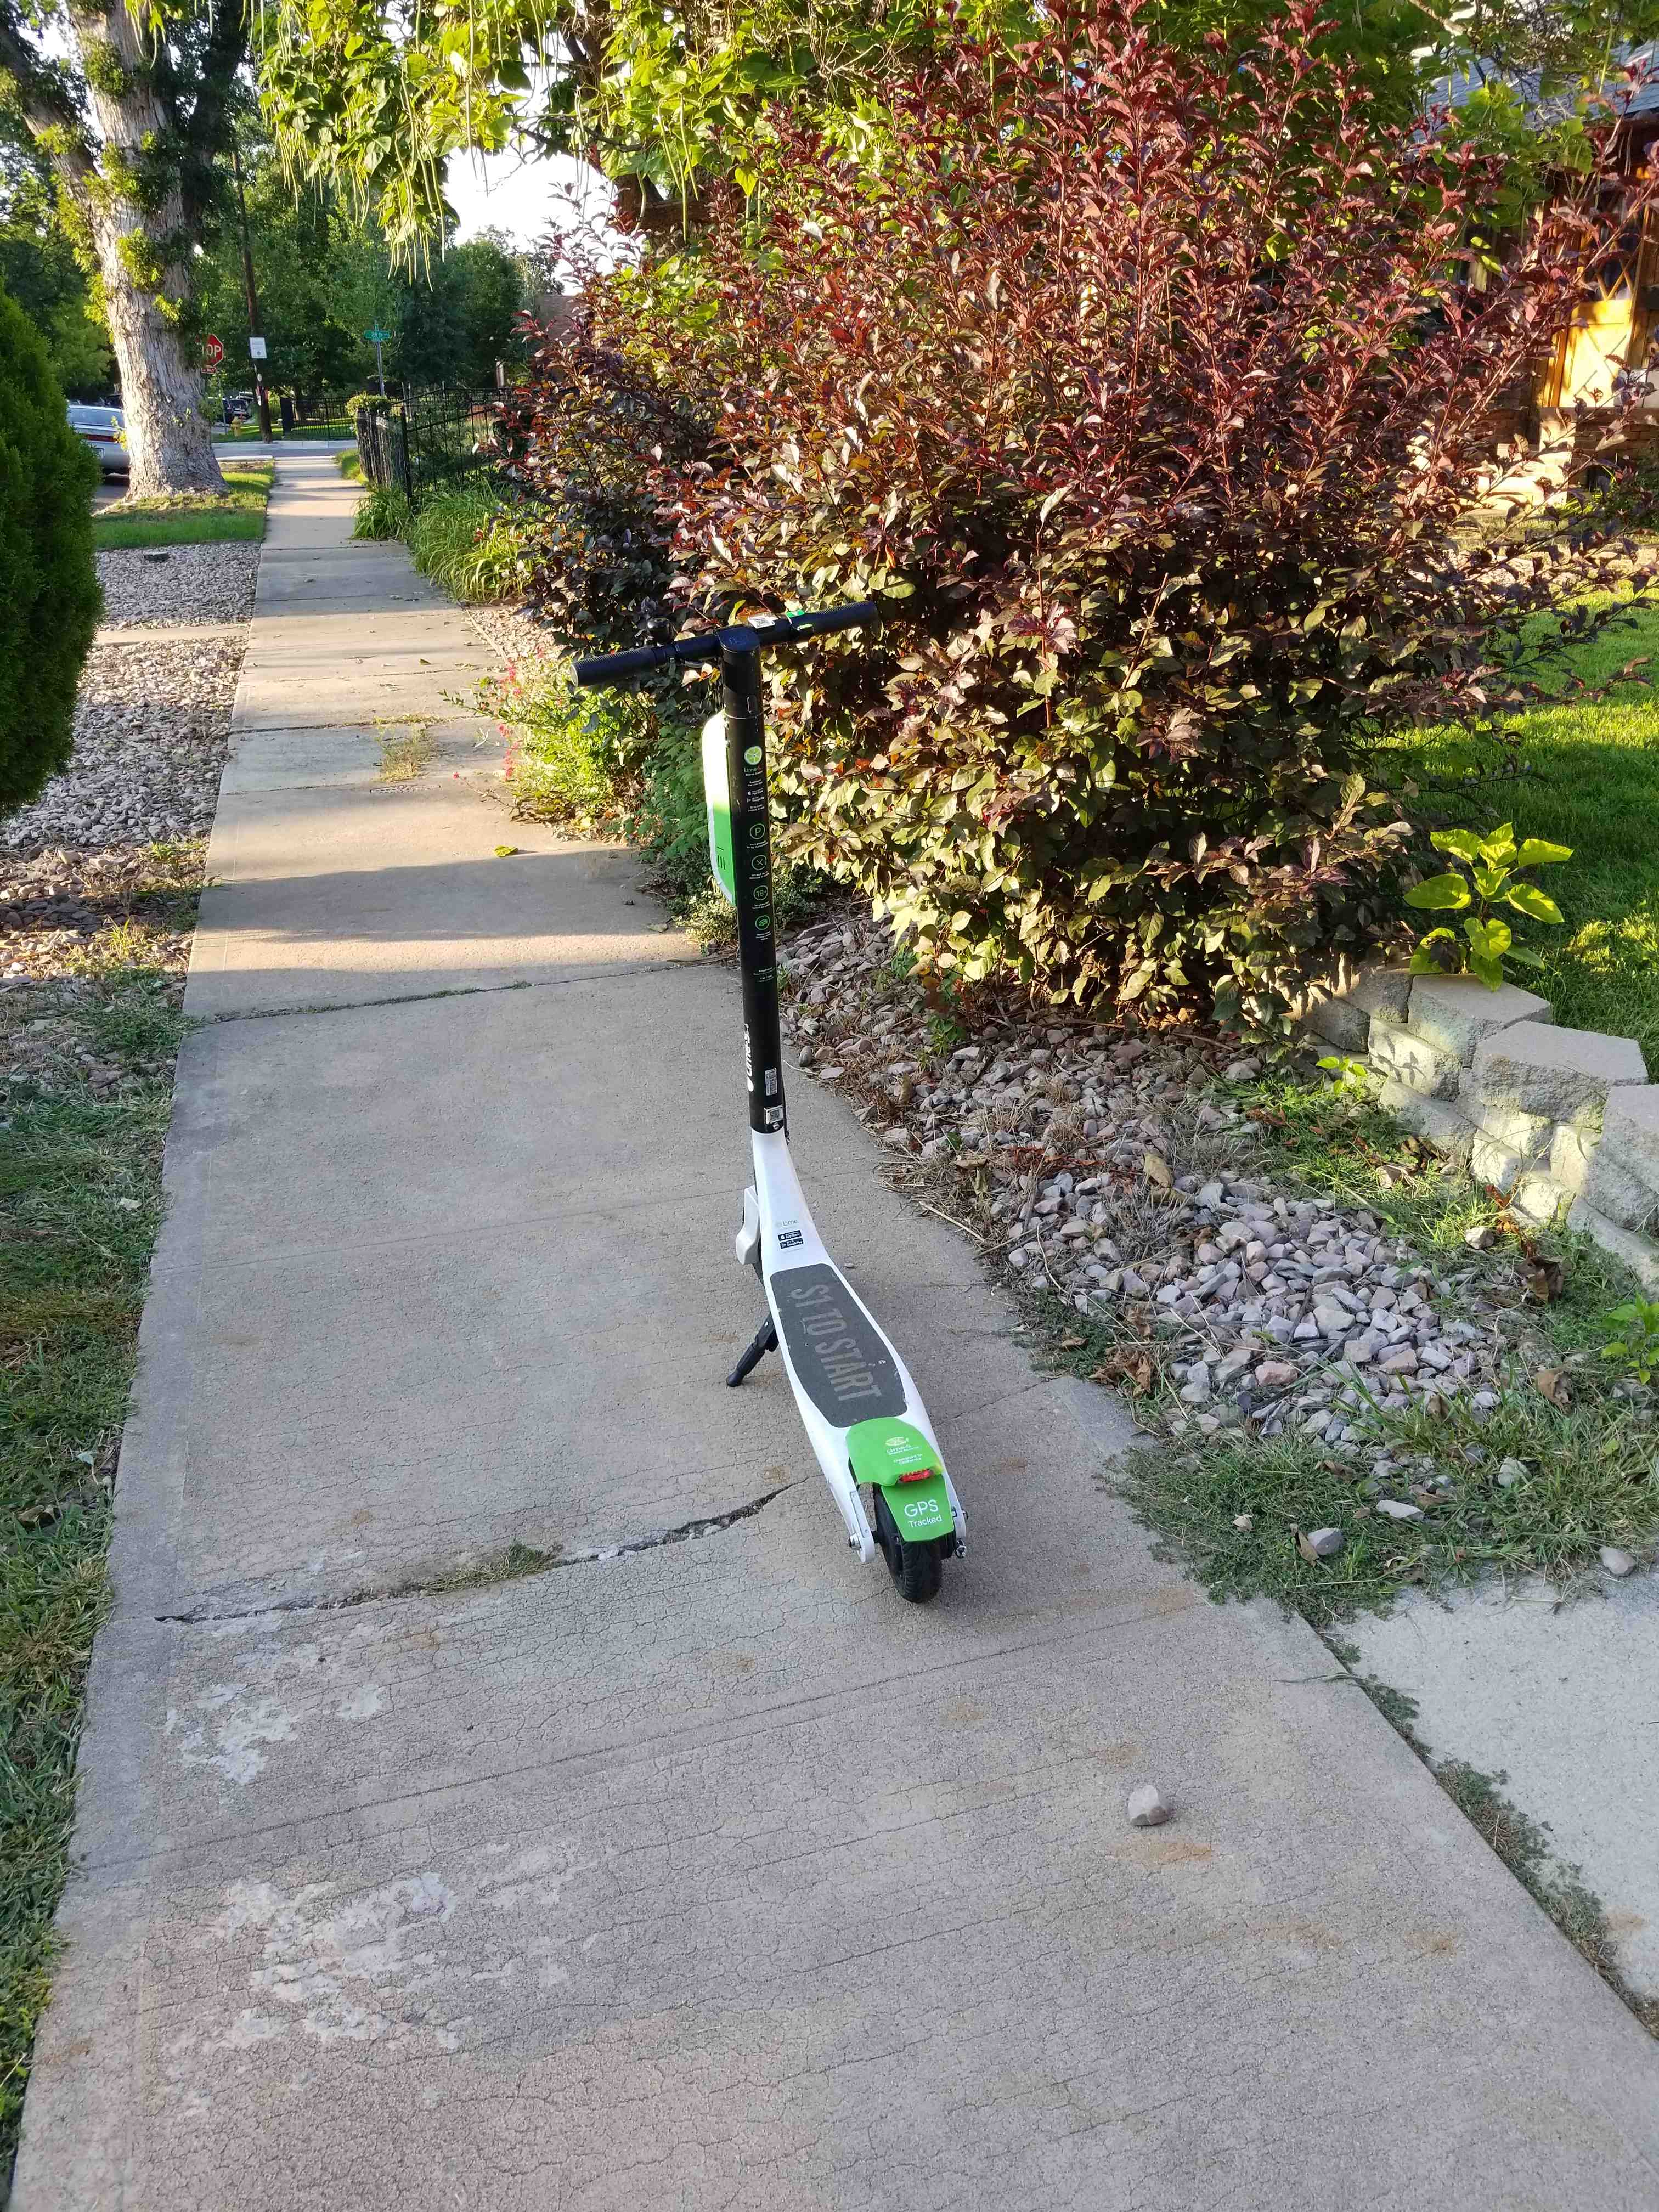scooter: (526, 563, 1000, 1637)
